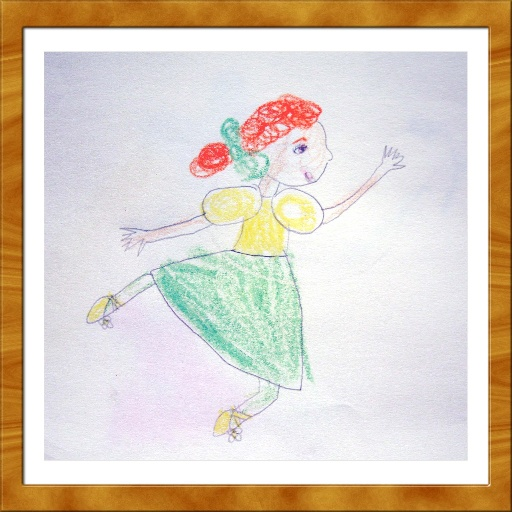hand: (118, 225, 151, 255), (384, 141, 404, 168)
